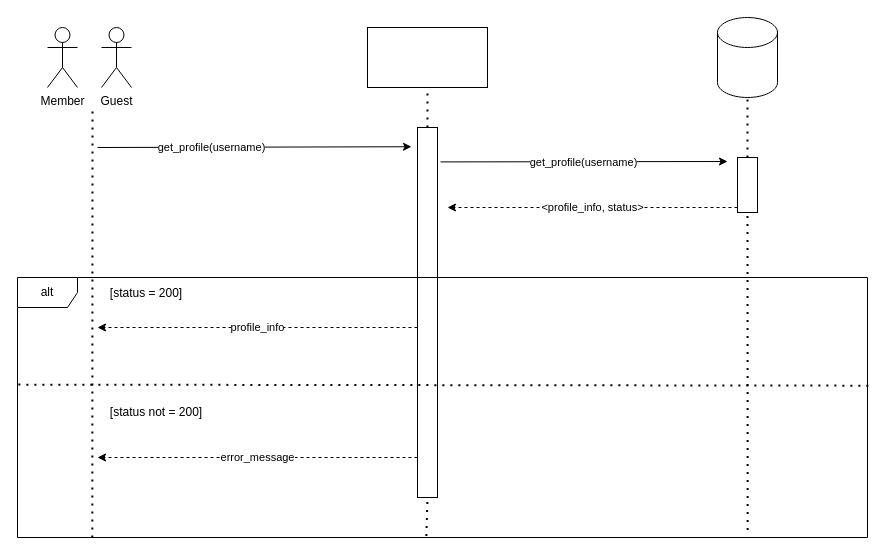
Image size: 890x557. Some labels were removed from this diagram. The centre of each missing label's shape, as x and y in pixels:
Database: pixel 747 57
Profile: pixel 427 57
